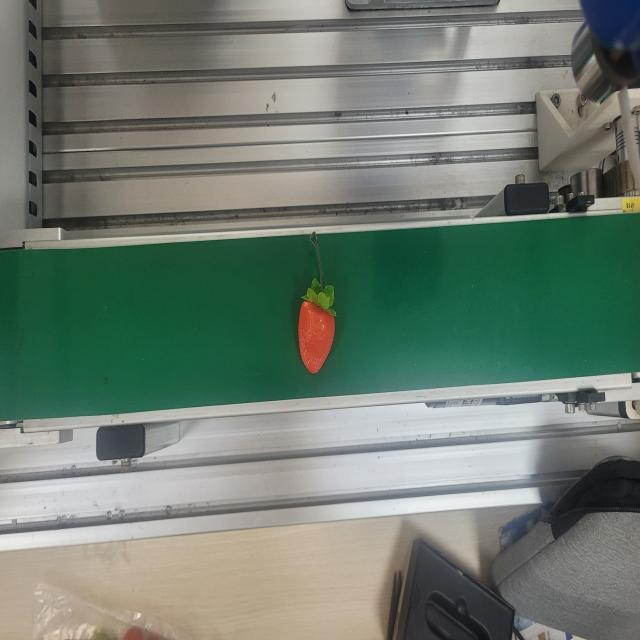Small Ripe Strawberry: (296, 228, 338, 376)
conveyor: (3, 216, 640, 432)
